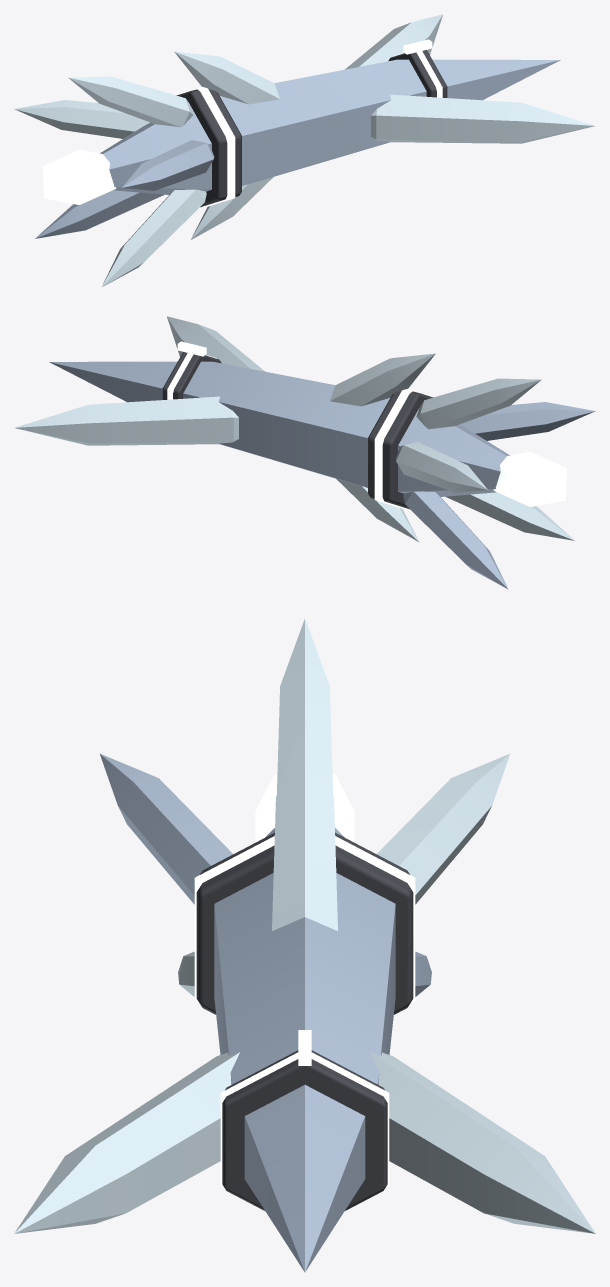
The model's file is crystal_large.glb.
3 renders of one model, top to bottom at view 1: azimuth 30°, elevation 25°; view 2: azimuth 150°, elevation 25°; view 3: azimuth 270°, elevation 25°, orthographic. The views are drawn at different scales.
Visible parts, largest first — view 1: crystal_large; view 2: crystal_large; view 3: crystal_large.
Part boxes in pixels (box(x1,y1,x2,y2)): crystal_large: box(14, 14, 595, 287); crystal_large: box(14, 316, 595, 589); crystal_large: box(14, 619, 595, 1272).
Bounding box in the file's own units: 2 × 0.7133 × 1.02.
